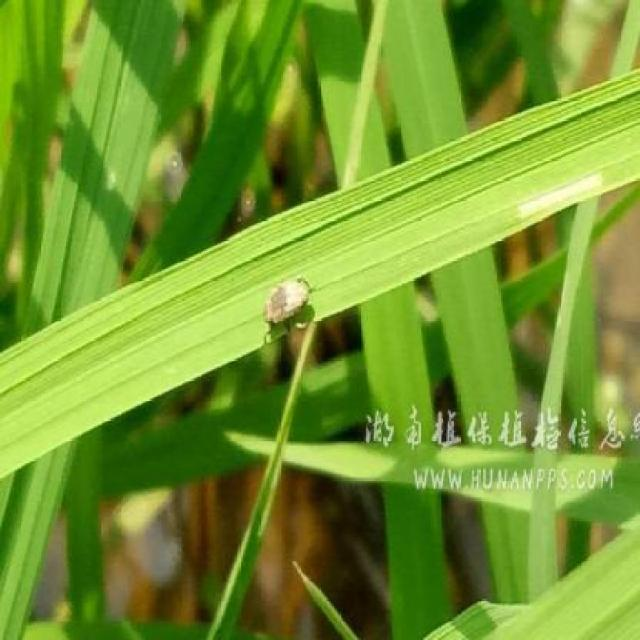rice-bug: (261, 274, 317, 340)
